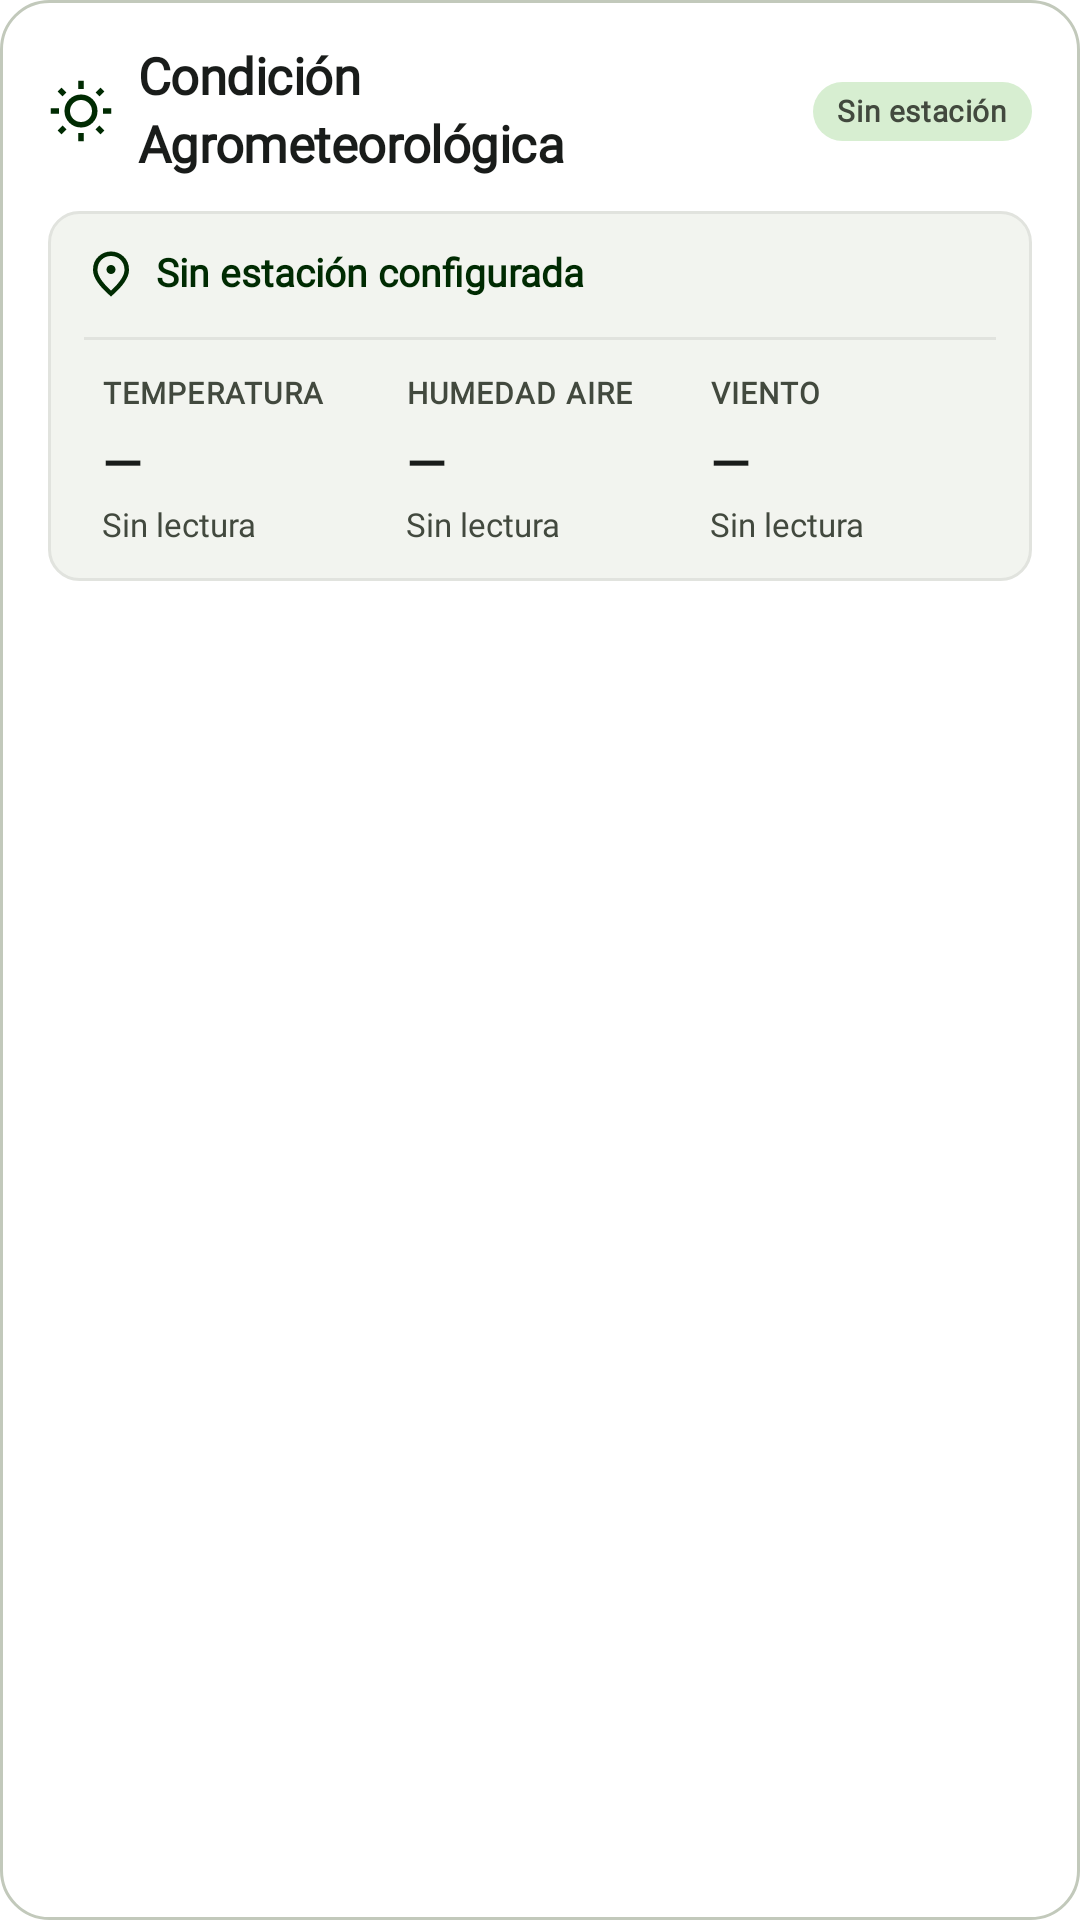

Icons on this 1080px x 1920px Android screen, each with the point to tap as (x,y):
location on: (111,274)
sunny: (81,111)
